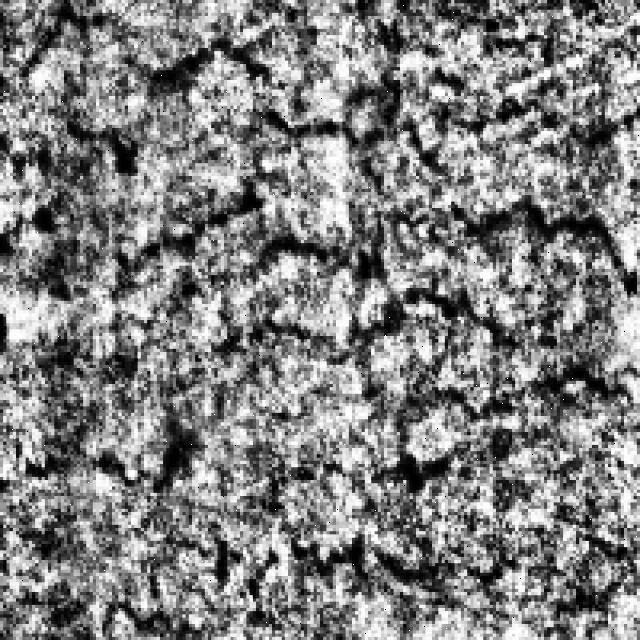Pitted_Surface: (138, 189, 640, 416), (22, 0, 605, 176), (173, 438, 541, 589), (29, 333, 228, 496)
